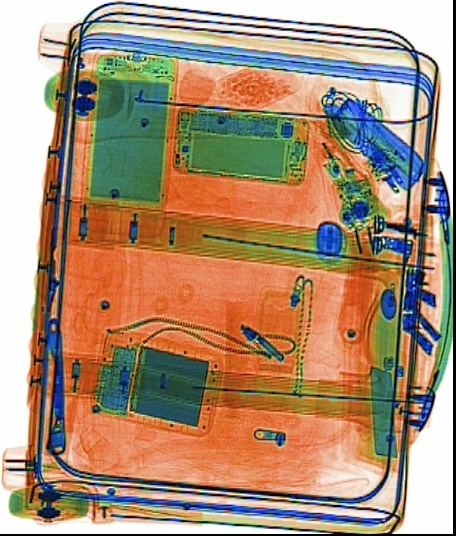powerbank: (89, 326, 225, 437)
